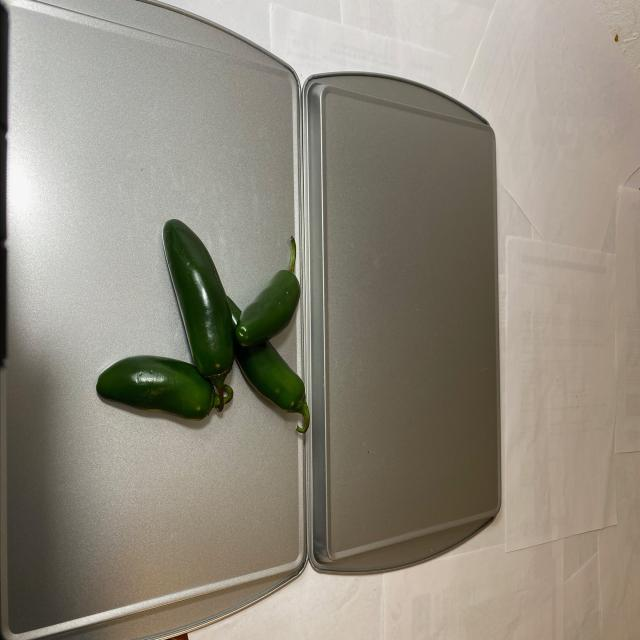chilli: (94, 212, 315, 447)
